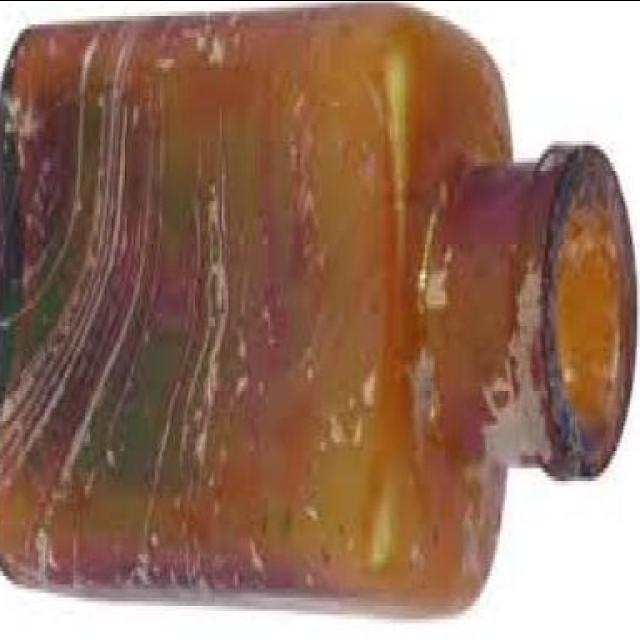kaca: (0, 6, 640, 622)
